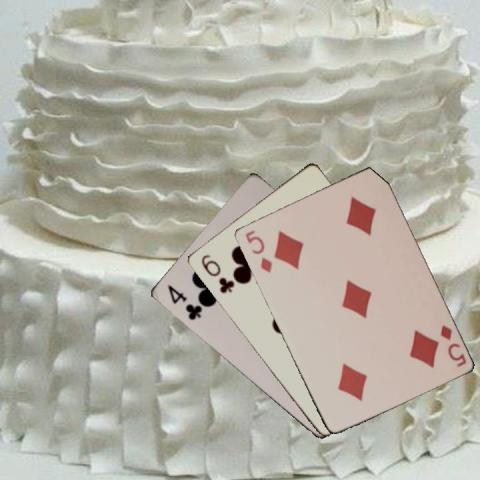4c: (164, 282, 203, 321)
5d: (242, 227, 273, 274), (437, 321, 467, 368)
6c: (198, 251, 236, 295)
